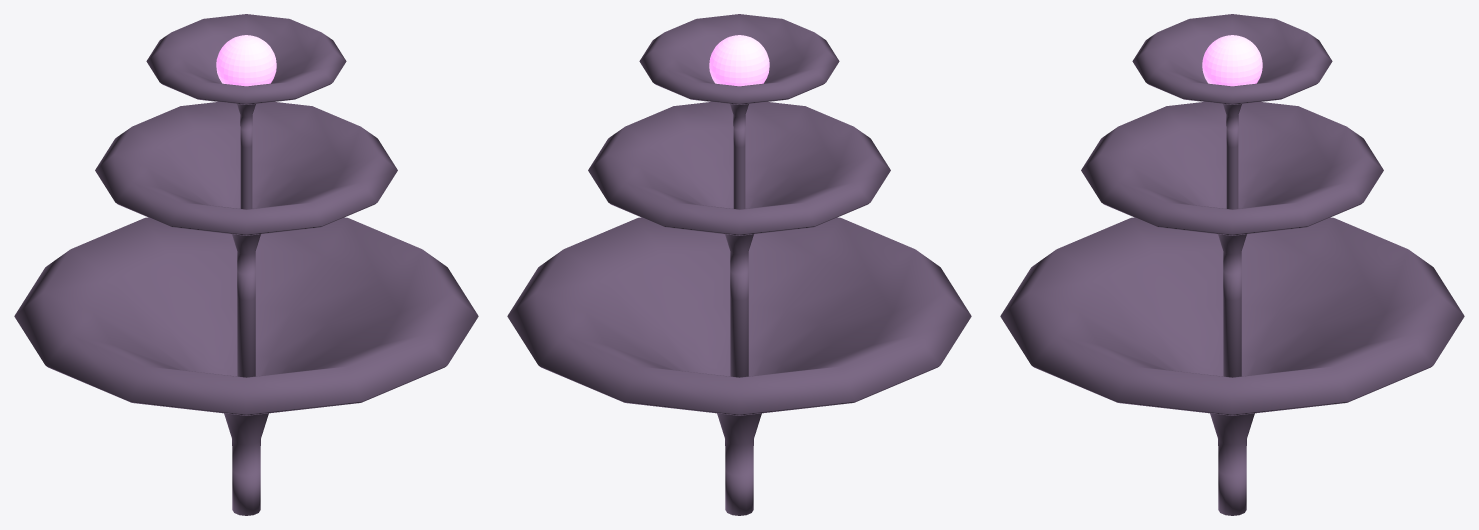
The model's file is grzyb2.fbx.
The picture shows the model from 3 angles, left to right: view 1: azimuth 30°, elevation 25°; view 2: azimuth 150°, elevation 25°; view 3: azimuth 270°, elevation 25°; orthographic projection.
Parts seen in each view (by area): view 1: Cylinder.002, Sphere; view 2: Cylinder.002, Sphere; view 3: Cylinder.002, Sphere.
Boxes of the visible parts, bbox=[...] form: Cylinder.002: bbox=[14, 14, 478, 515]; Sphere: bbox=[216, 35, 276, 86]; Cylinder.002: bbox=[507, 14, 971, 515]; Sphere: bbox=[709, 35, 769, 86]; Cylinder.002: bbox=[1000, 14, 1464, 515]; Sphere: bbox=[1202, 35, 1262, 86].
Bounding box in the file's own units: 81.34 × 91.21 × 81.34.
